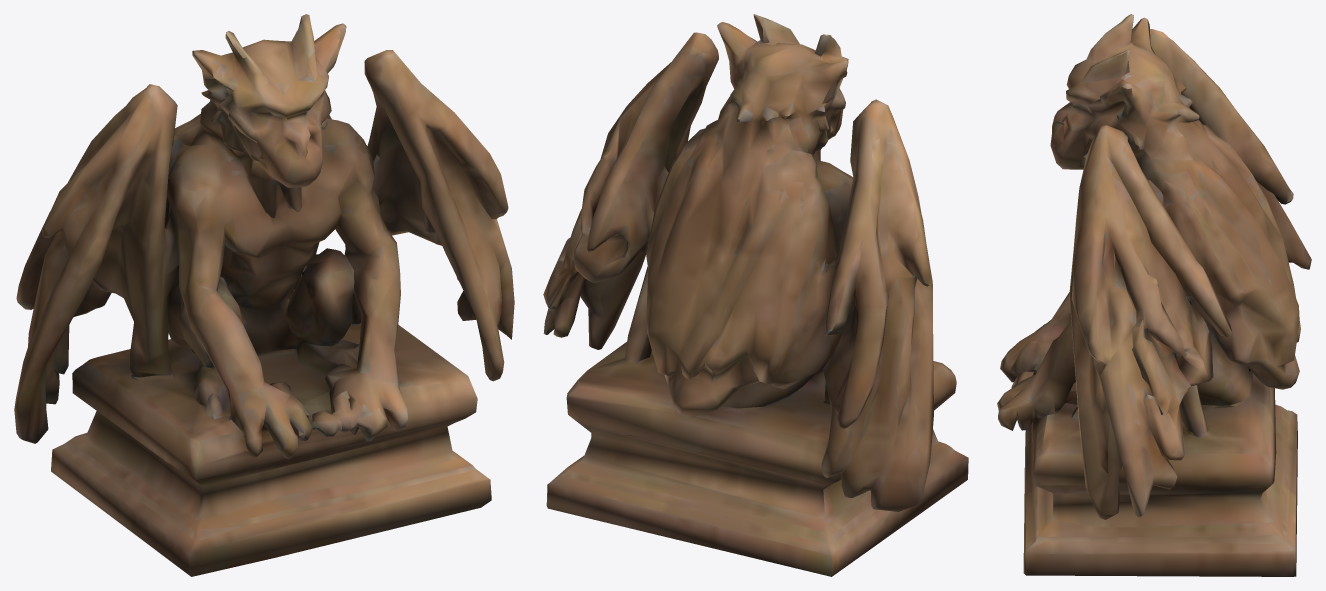
The model's file is old-sandstone-gargoyle-v001.glb.
The picture shows the model from 3 angles, left to right: view 1: azimuth 30°, elevation 25°; view 2: azimuth 150°, elevation 25°; view 3: azimuth 270°, elevation 25°; orthographic projection. The views are drawn at different scales.
Visible parts, largest first — view 1: old-sandstone-gargoyle; view 2: old-sandstone-gargoyle; view 3: old-sandstone-gargoyle.
Part boxes in pixels (x1,y1,x2,y2): old-sandstone-gargoyle: [14, 14, 514, 576]; old-sandstone-gargoyle: [543, 14, 968, 576]; old-sandstone-gargoyle: [997, 14, 1311, 576].
Size of the model in its own units: 0.8556 by 0.8923 by 0.5405.
1 material, 1 textured.
